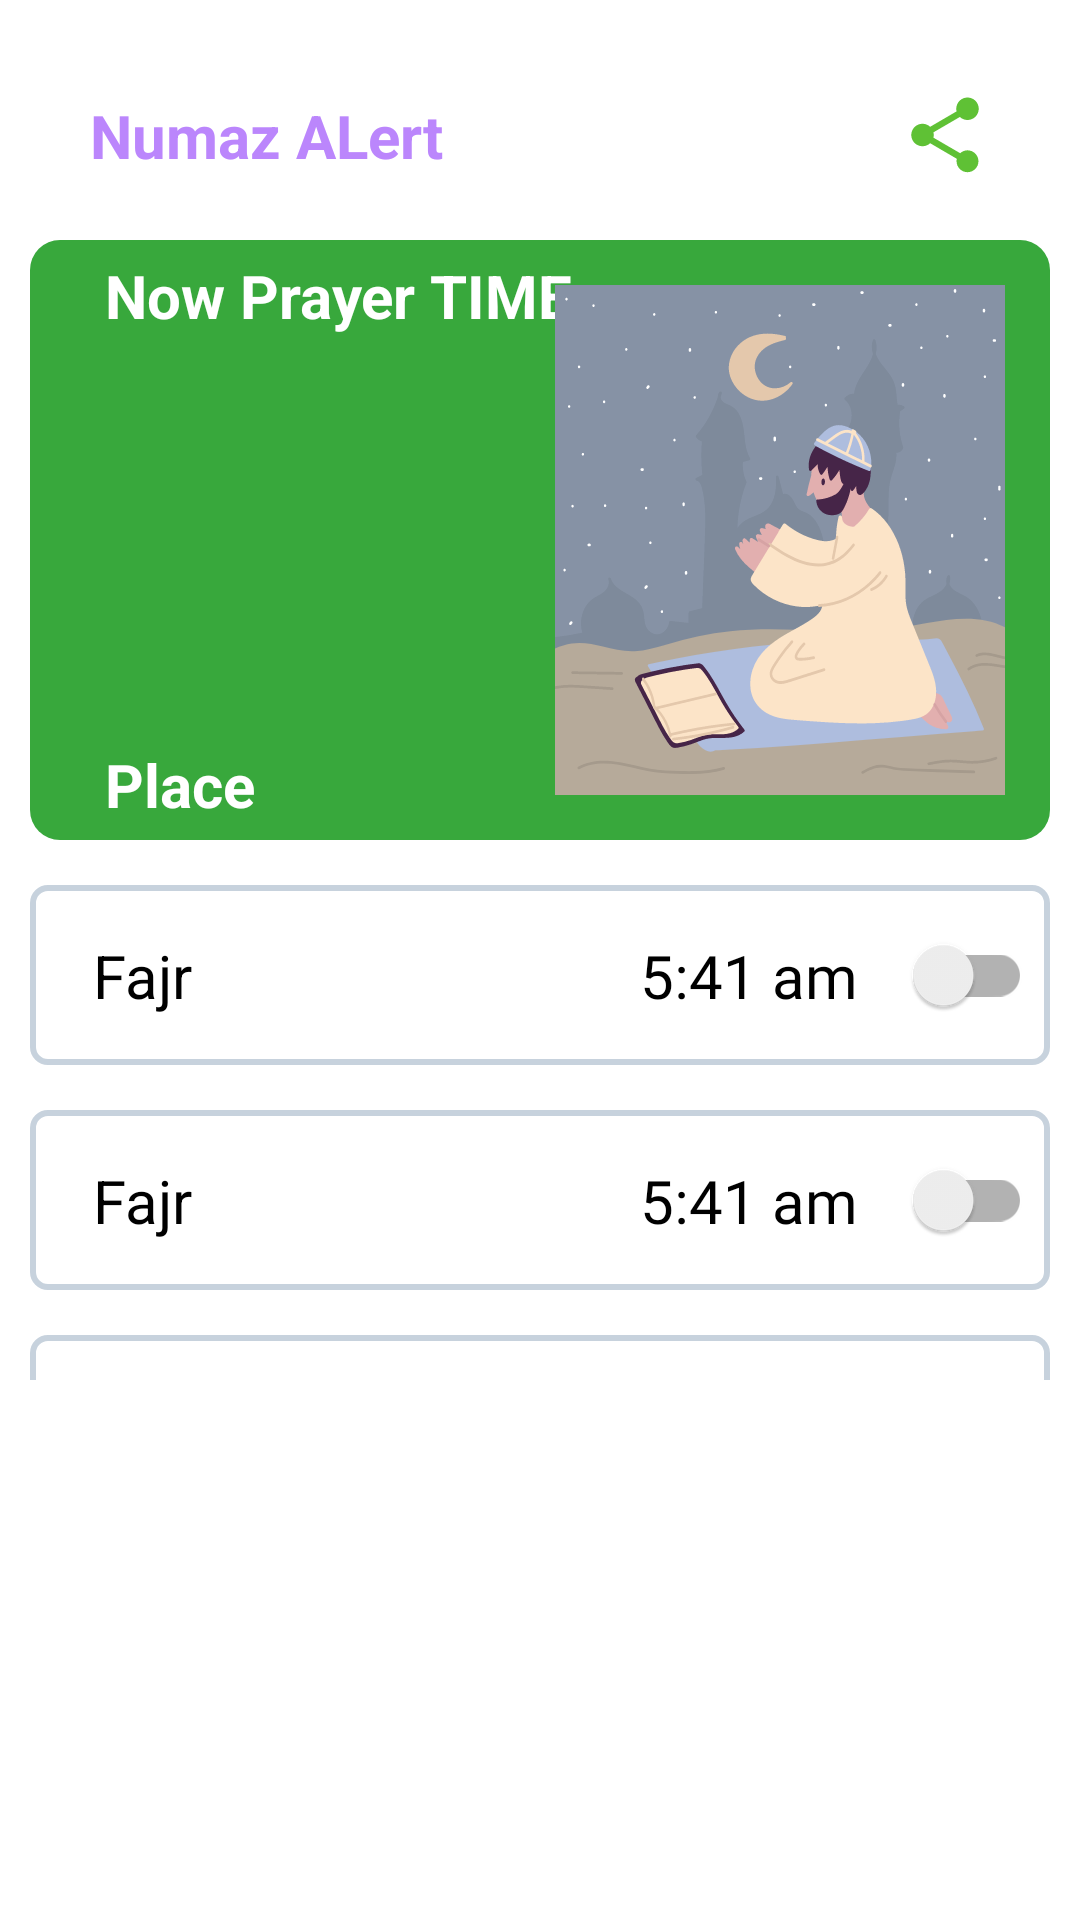

Icons on this 1080 x 1920 Android screen, each with the point to tap as [x,y]:
share: [945,135]
